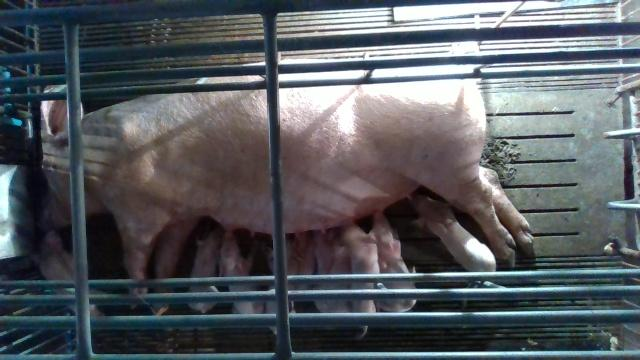piglet: (409, 194, 496, 272), (36, 231, 103, 316), (369, 210, 418, 312), (334, 223, 379, 313), (220, 231, 266, 313), (190, 225, 222, 311), (264, 236, 295, 312), (311, 229, 339, 307), (295, 233, 316, 291)
sow-sleep-lactate: (34, 41, 535, 312)
